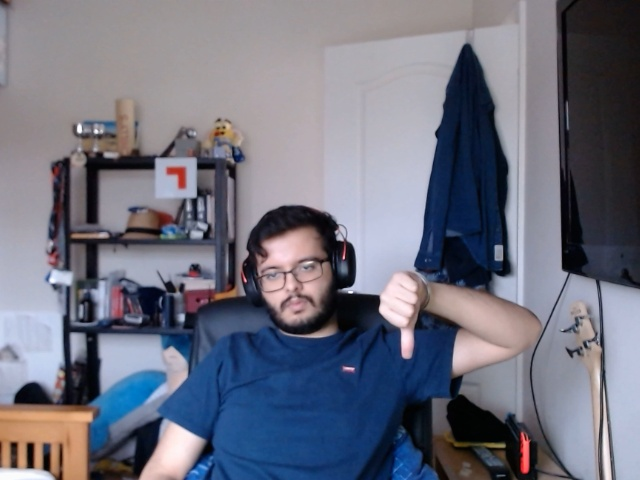Thumbs down: (378, 259, 436, 397)
